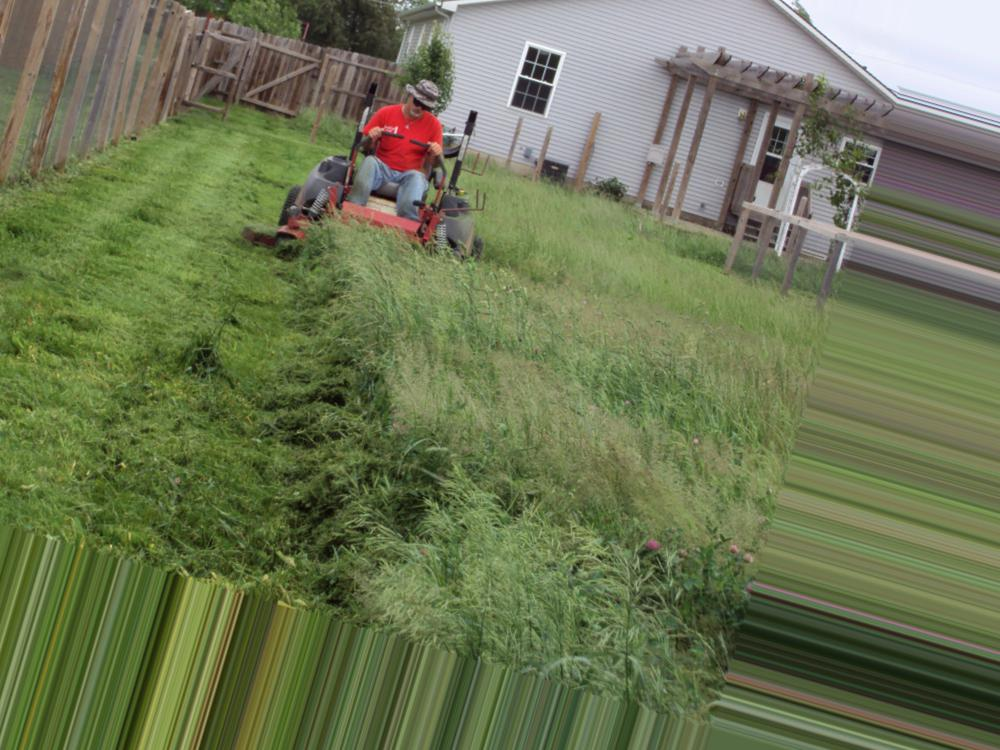patch: (390, 309, 540, 465)
